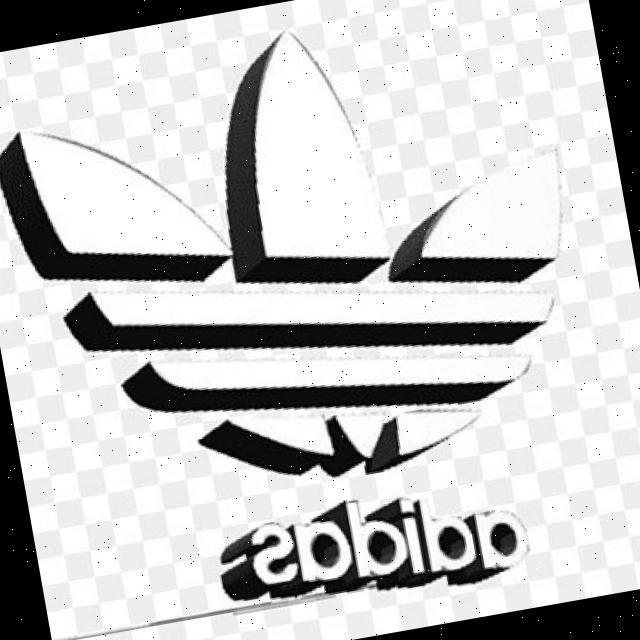Adidas: (0, 0, 604, 539)
